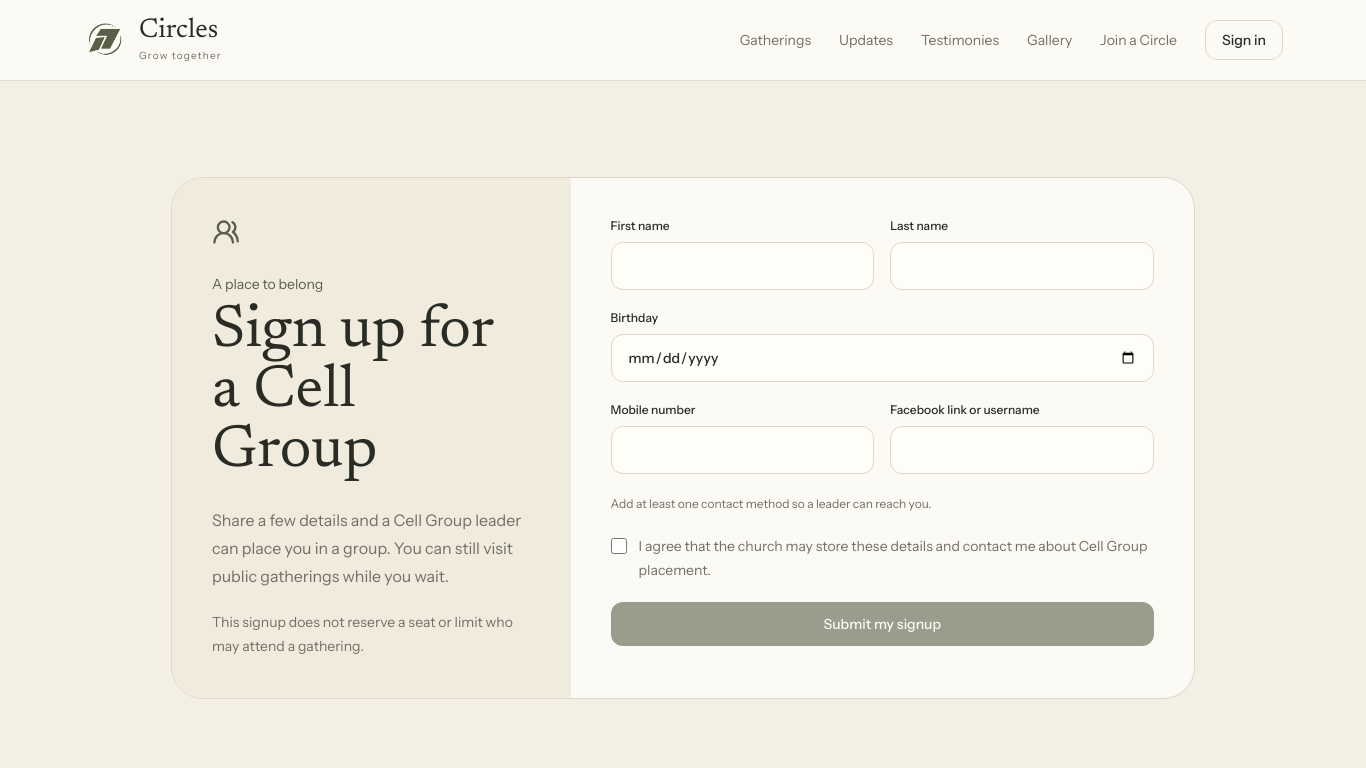
Test: Circles MVP › offers a separate official Cell Group signup form
Expected: the heading "Sign up for a Cell Group" is shown, [212,302,531,482]
Expected: the field labelled "Mobile number" is shown, [611,426,874,474]
Type "Jamie" into the field labelled "First name". click: (742, 266)
box: [611,242,874,290]
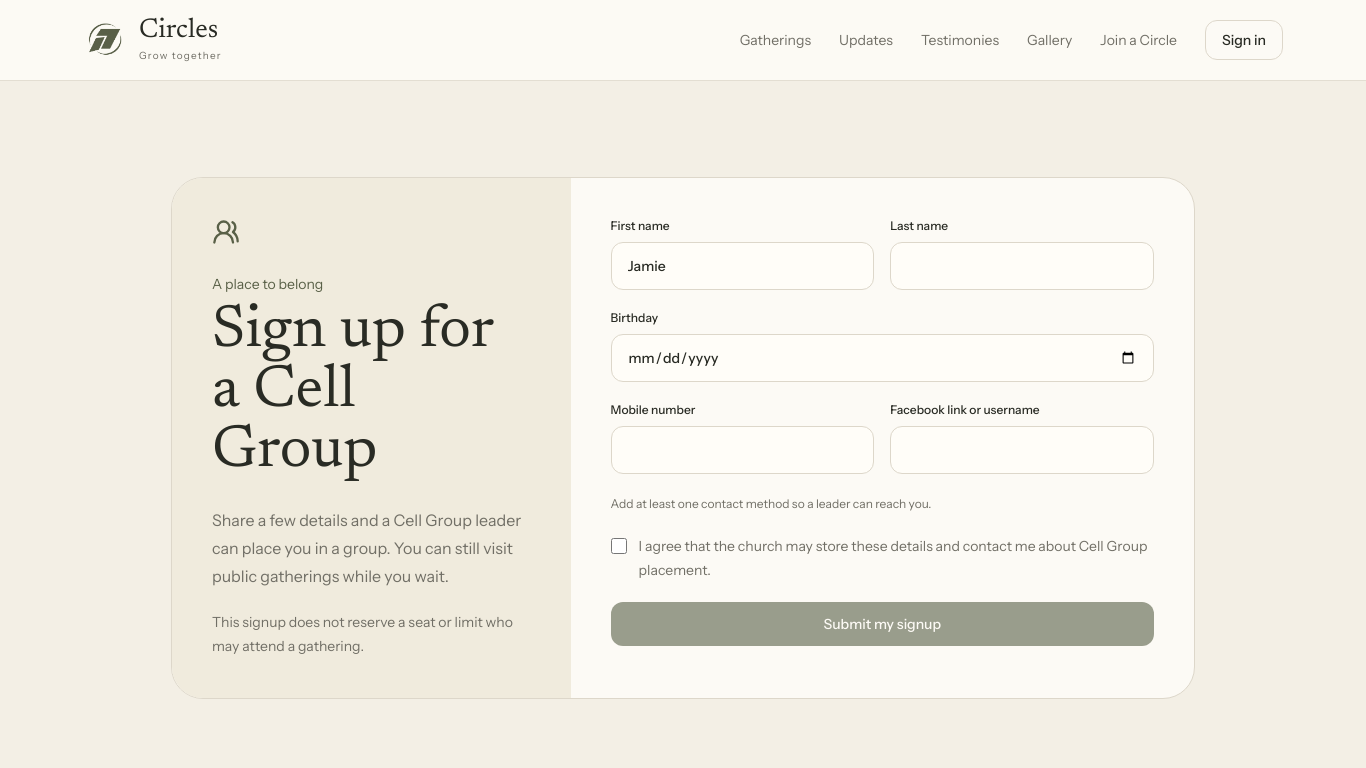
Type "Rivera" into the field labelled "Last name". click: (1022, 266)
box: [890,242,1154,290]
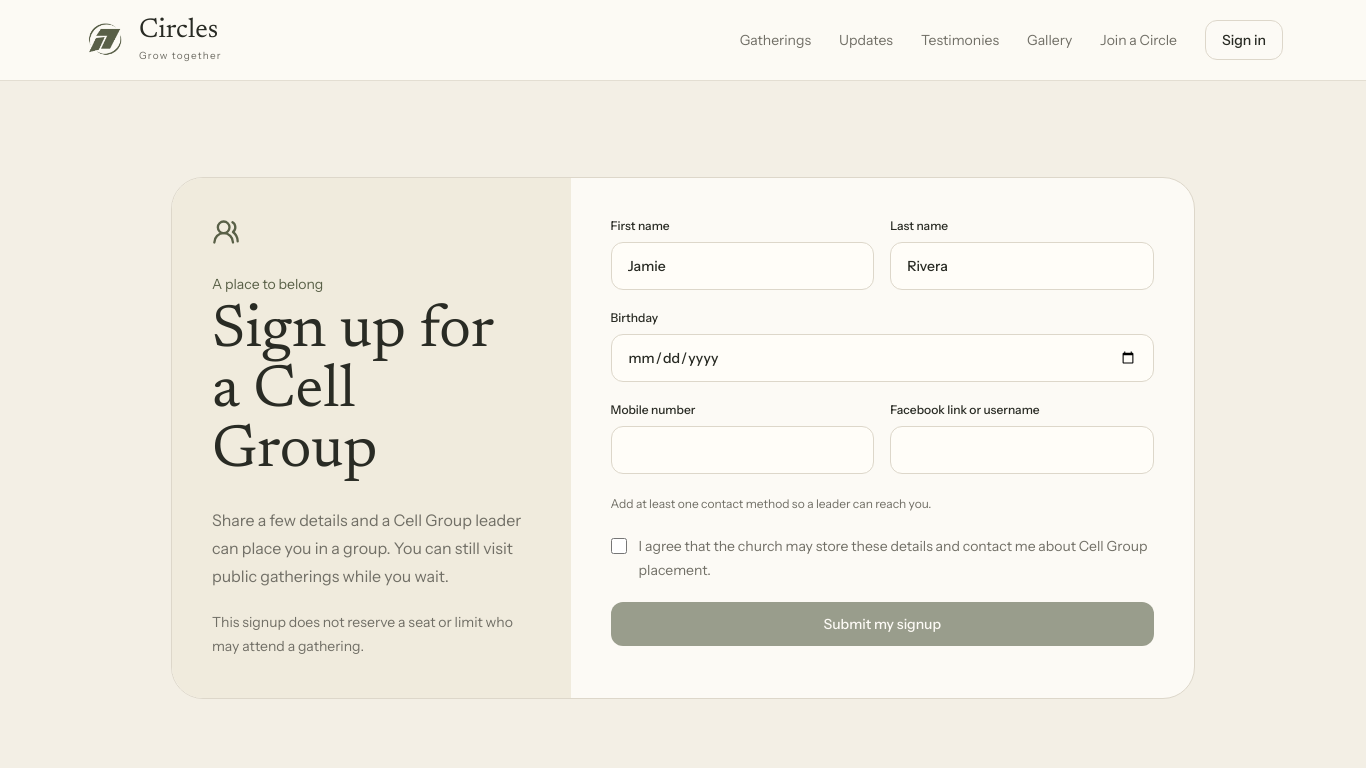
Type "1998-06-14" into the date field labelled "Birthday". click: (882, 358)
box: [611,334,1154,382]
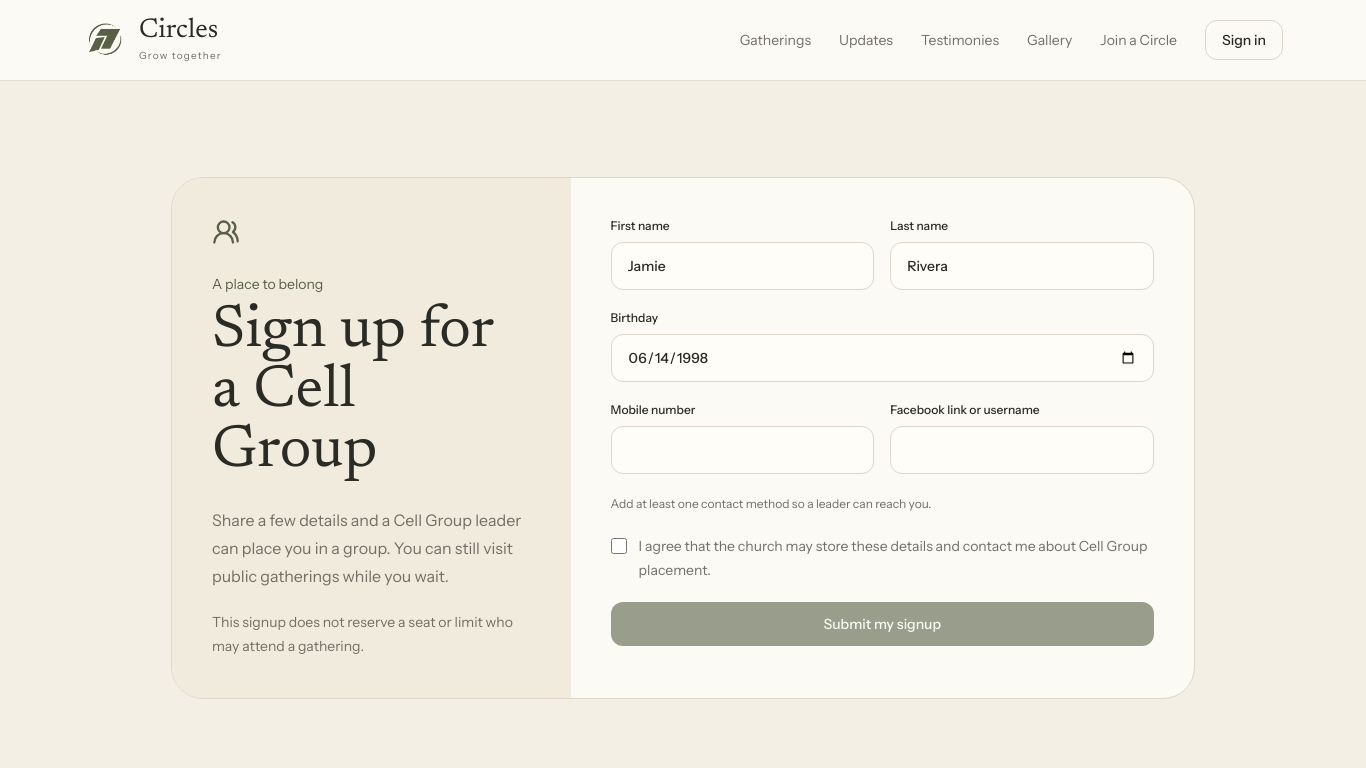
Type "jamie.rivera" into the field labelled "Facebook link or username". click: (1022, 450)
box: [890,426,1154,474]
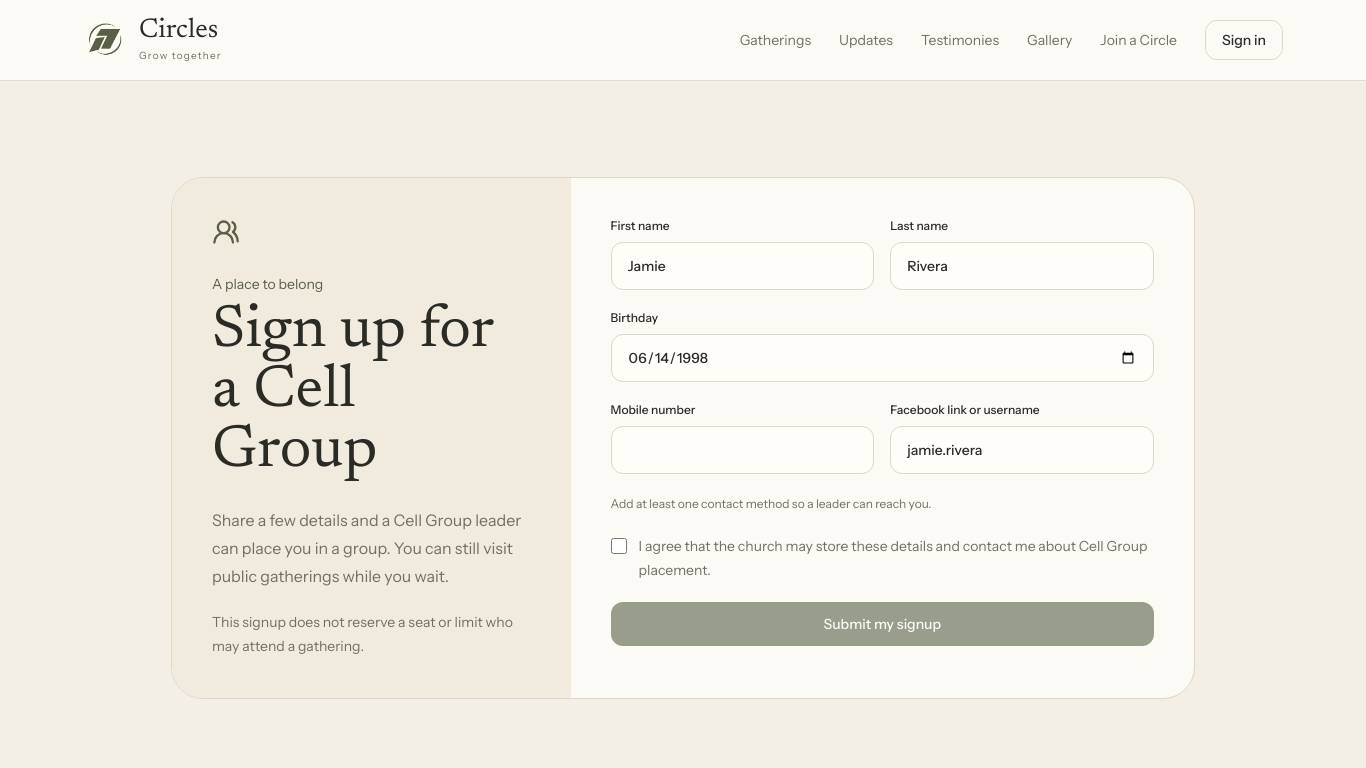
Click the checkbox labelled "store these details". click: (619, 546)
box: [611,538,627,554]
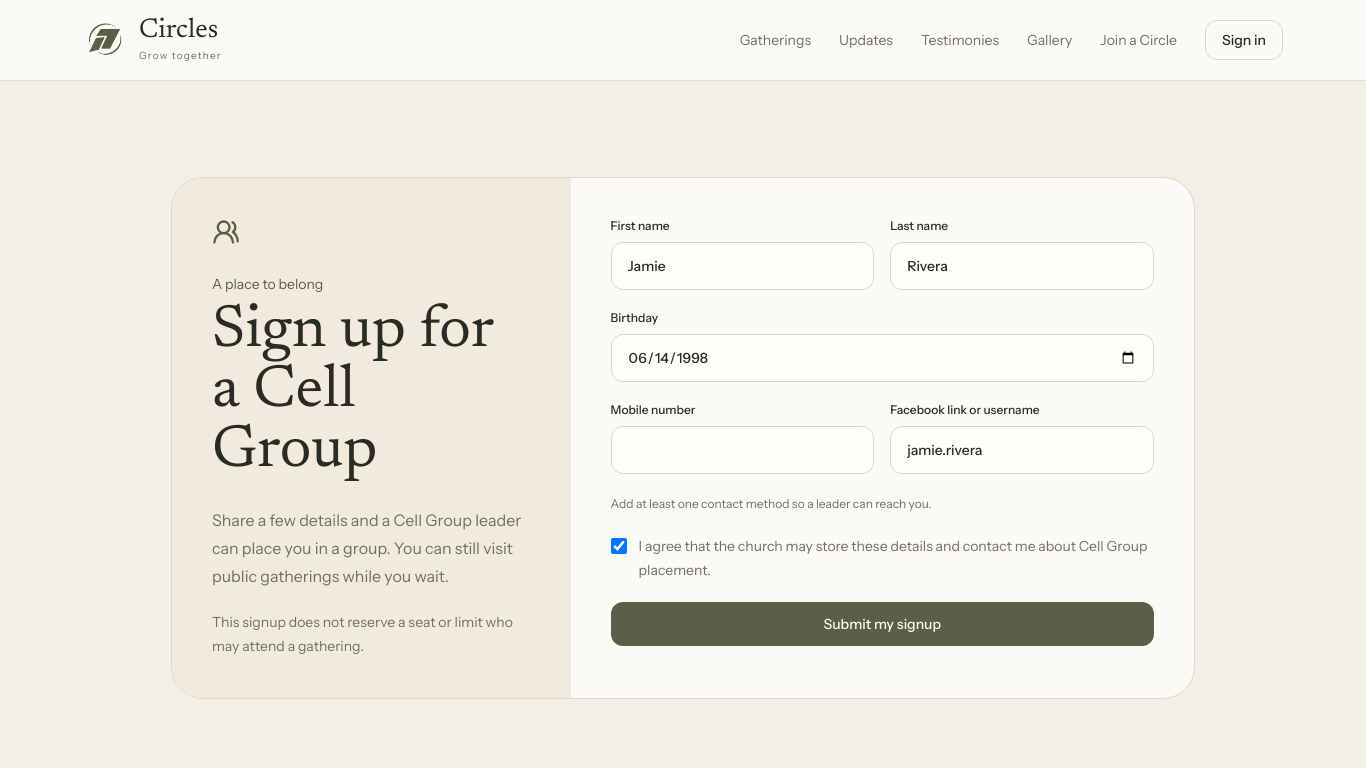
Click the button "Submit my signup". click: (882, 624)
box: [611,602,1154,646]
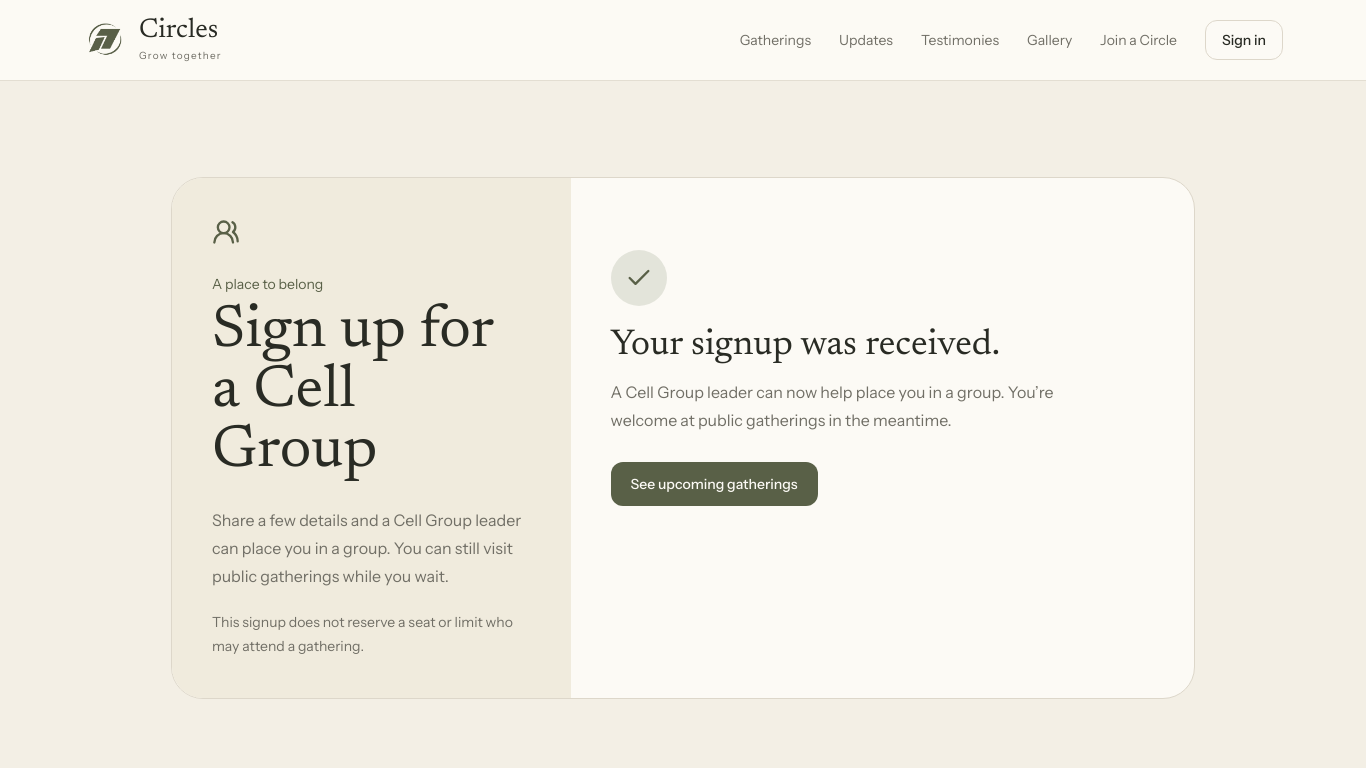
Result: the heading "Your signup was received." is shown at [611,328,1000,364]
